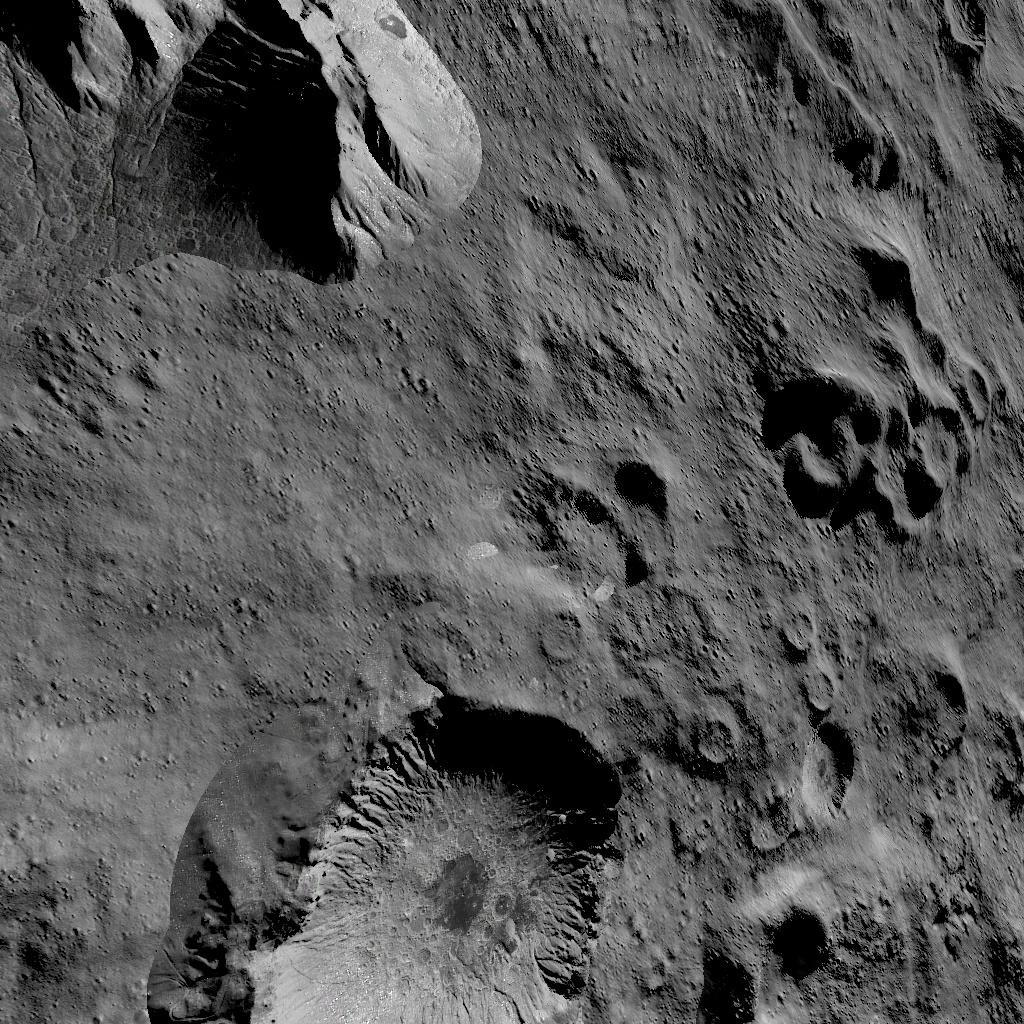Boulders: (1, 0, 479, 332)
Crater: (141, 684, 634, 1022), (766, 350, 994, 528), (693, 862, 852, 1024), (766, 612, 854, 822), (523, 456, 668, 582), (894, 658, 975, 754), (848, 236, 922, 315), (926, 0, 1004, 65), (682, 708, 742, 774), (532, 606, 592, 668)
Plan surface: (0, 340, 496, 673), (505, 2, 708, 440)
